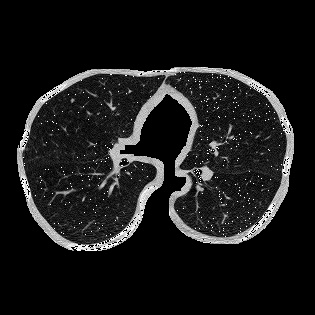PN: (70, 98, 74, 102)
